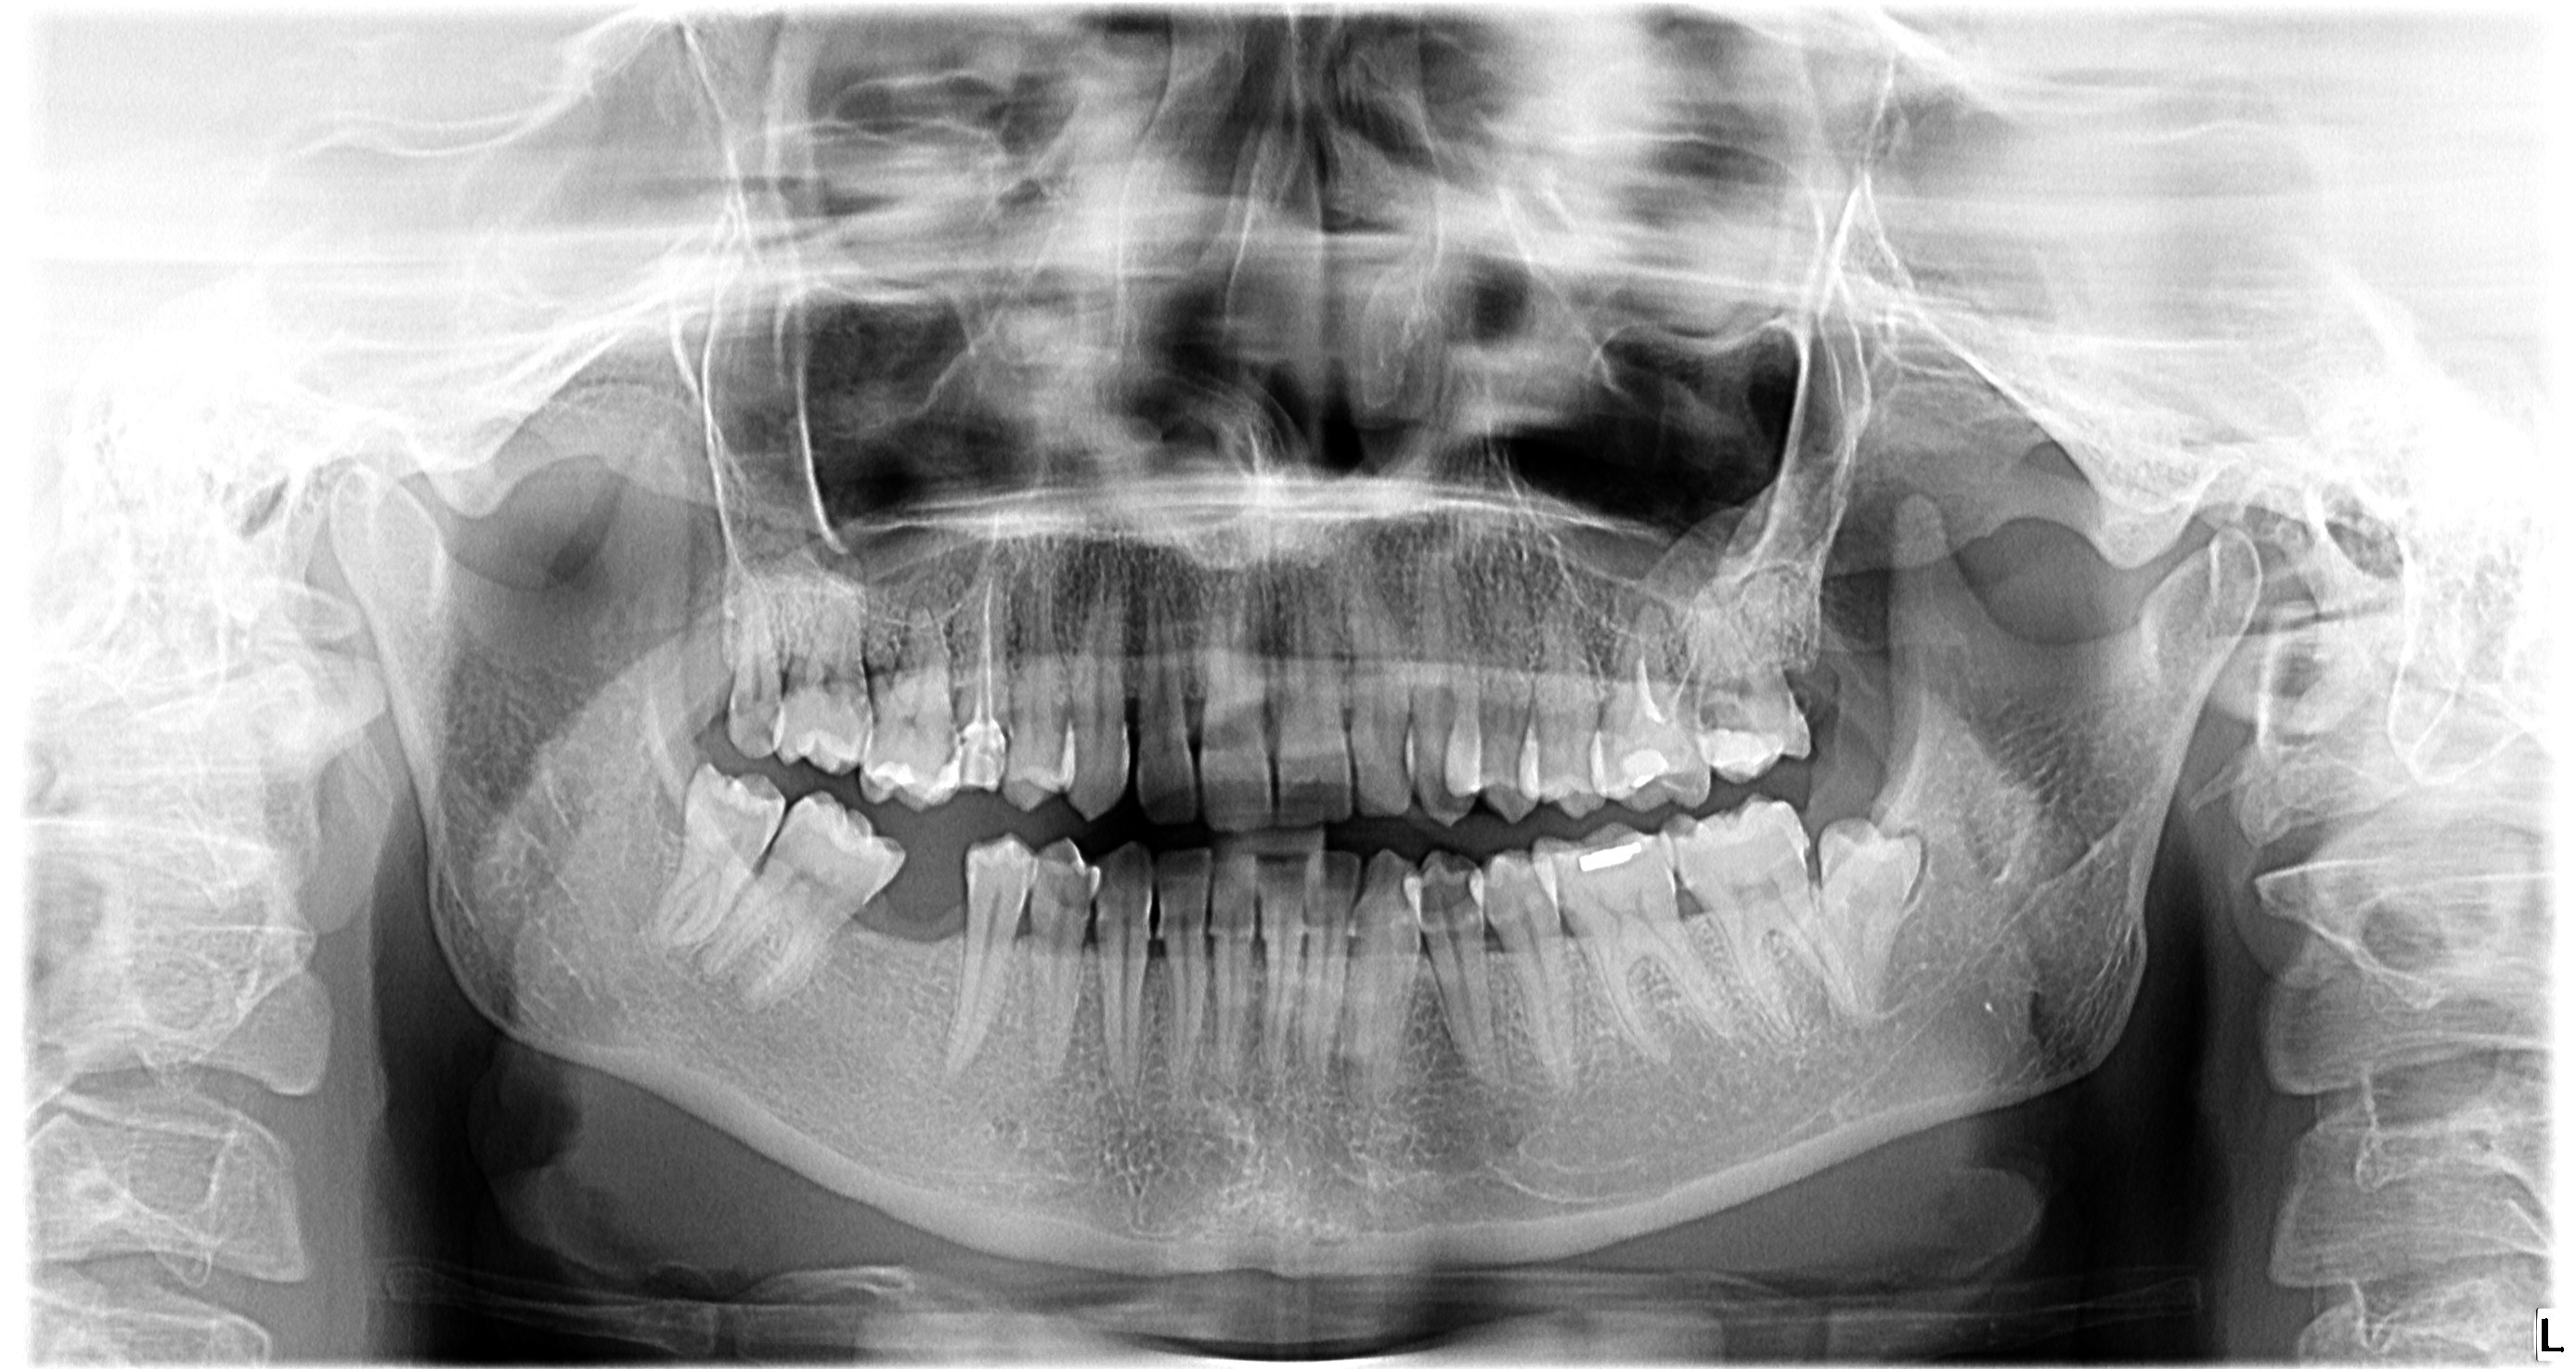END: (1596, 611, 1714, 742)
IMT: (1792, 800, 1951, 1049)
OBT: (944, 702, 1027, 805), (1567, 811, 1666, 897), (1605, 727, 1692, 819), (1695, 720, 1784, 783), (860, 749, 923, 800)
